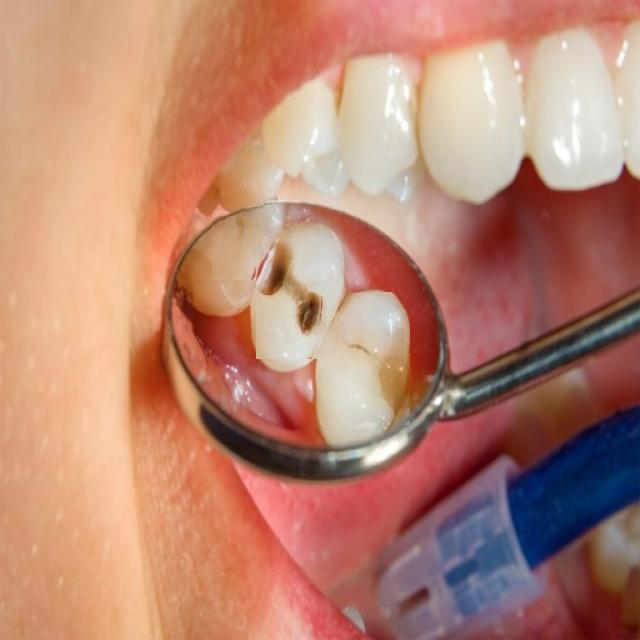Cavity: (256, 219, 324, 359), (344, 292, 410, 431), (212, 198, 264, 280)
